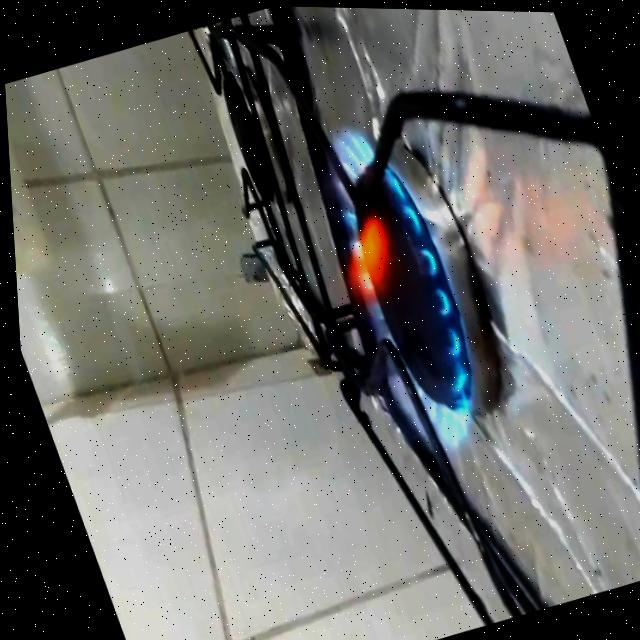Fire: (279, 105, 510, 476)
